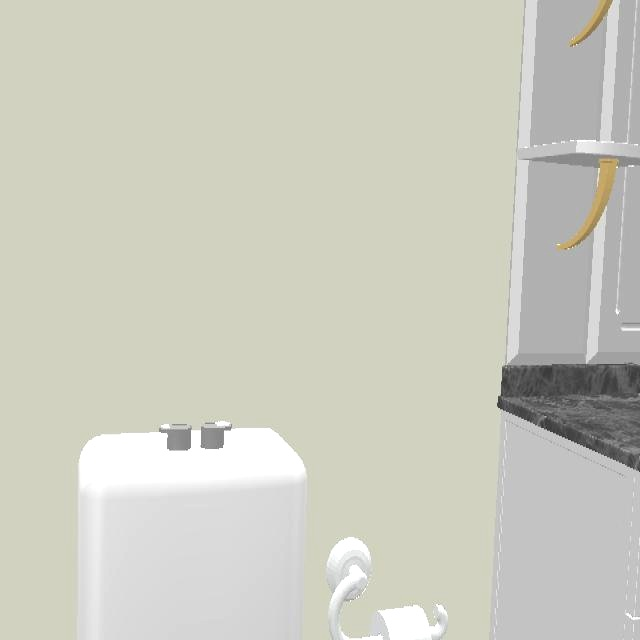toilet: (76, 421, 310, 640)
